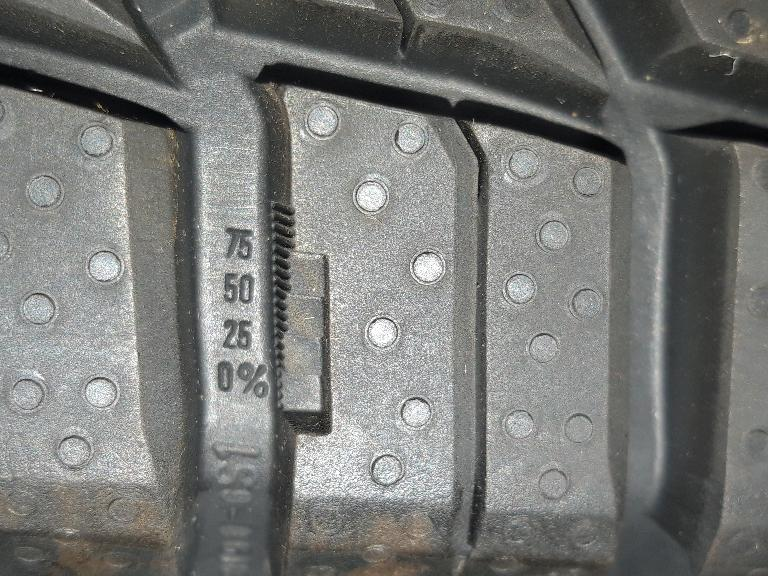temoin:100: (259, 193, 342, 448)
